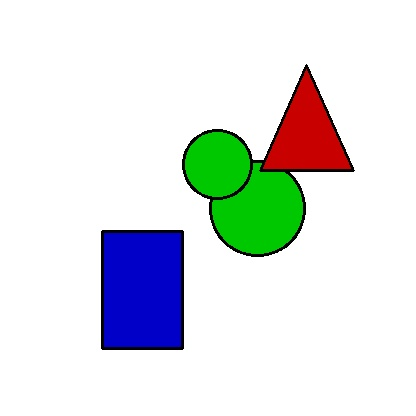circle: (203, 161, 312, 255), (183, 129, 251, 199)
rectangle: (102, 231, 182, 348)
triangle: (260, 65, 353, 170)
